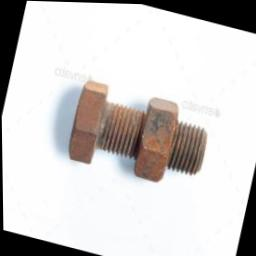Corroded-Nut-and-Bolt: (69, 80, 206, 181)
